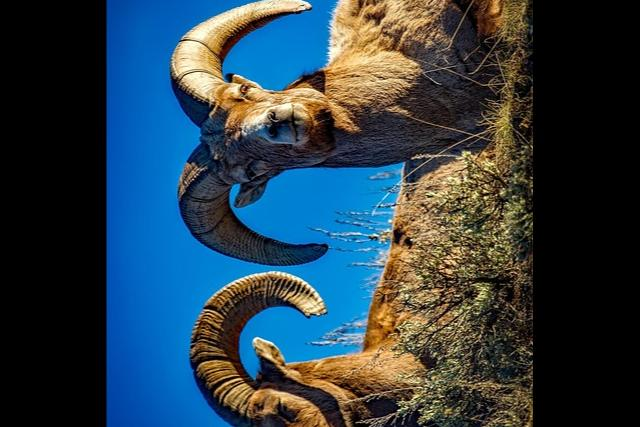Non_Gorille: (106, 0, 520, 427)
